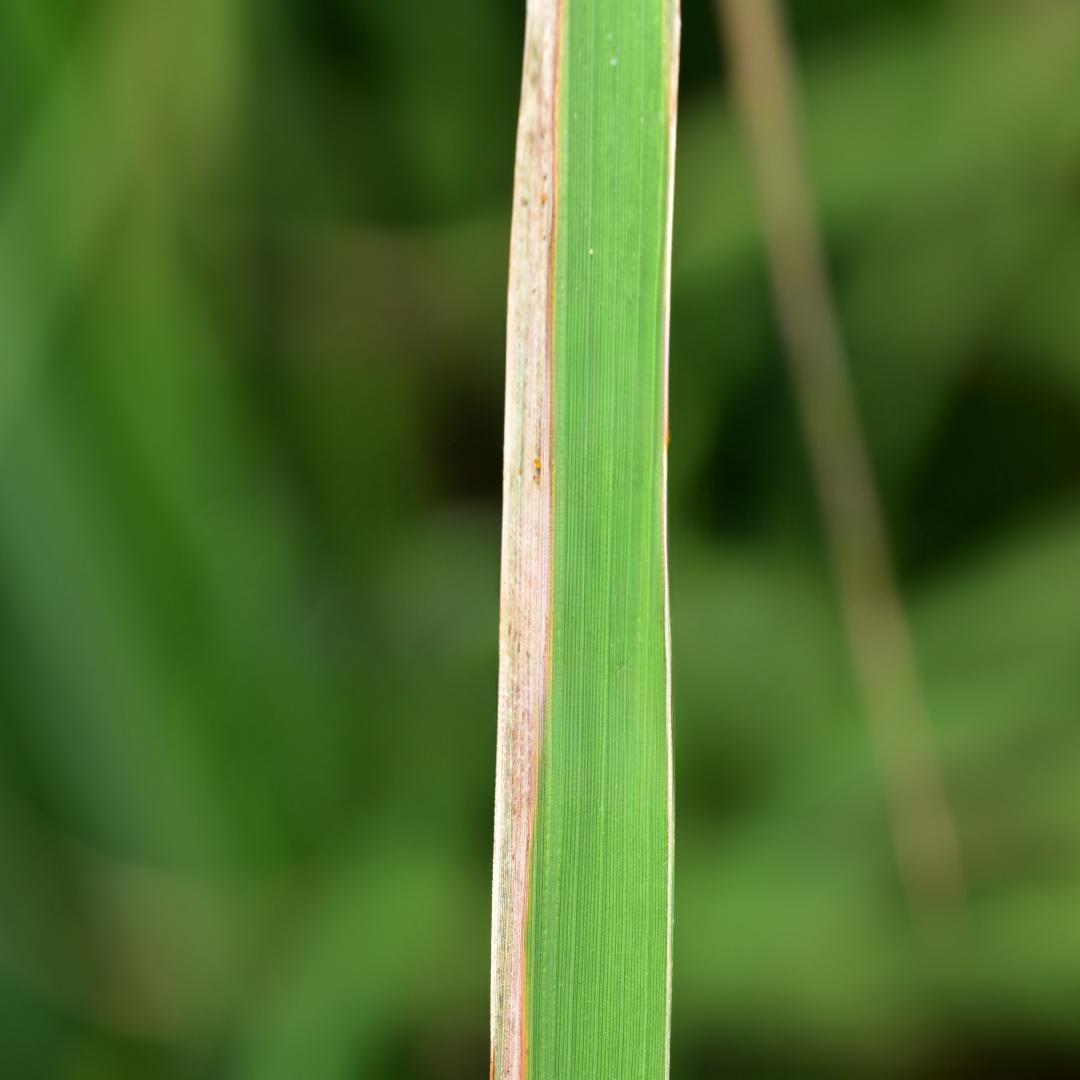BLB: (491, 0, 559, 1079)
